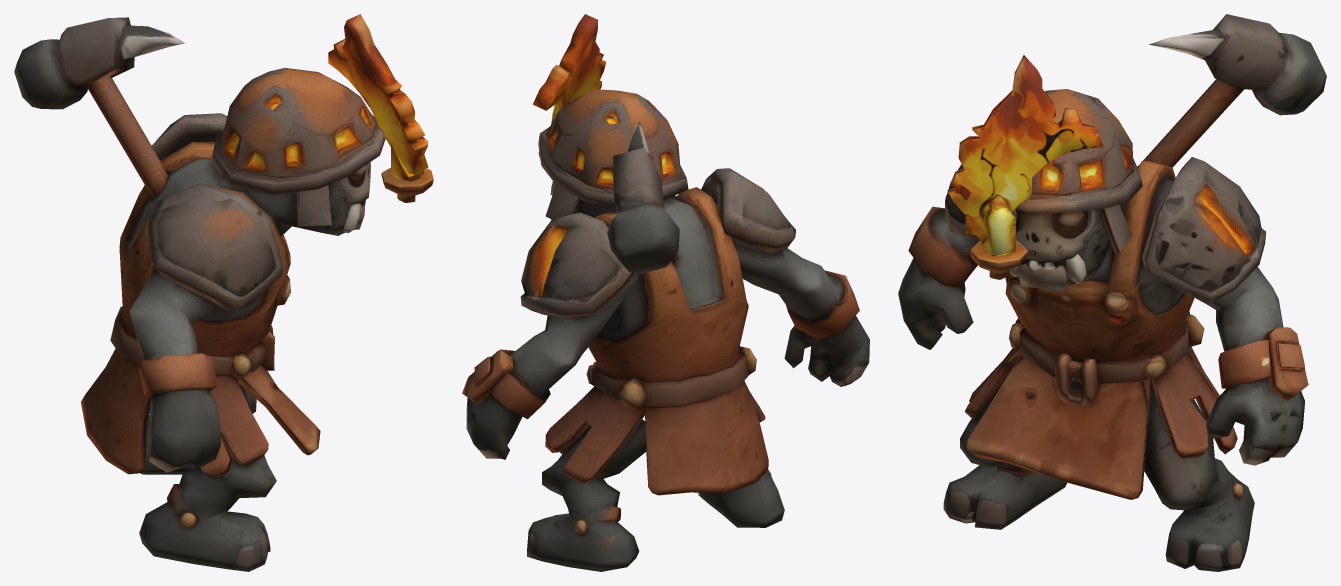
3 renders of one model, left to right at view 1: azimuth 30°, elevation 25°; view 2: azimuth 150°, elevation 25°; view 3: azimuth 270°, elevation 25°, orthographic. The views are drawn at different scales.
Visible parts, largest first — view 1: tripo_node_11606031-119f-4c79-b712-43086ac2ef13; view 2: tripo_node_11606031-119f-4c79-b712-43086ac2ef13; view 3: tripo_node_11606031-119f-4c79-b712-43086ac2ef13.
Part boxes in pixels (x1=…): tripo_node_11606031-119f-4c79-b712-43086ac2ef13: x1=14, y1=14, x2=433, y2=571; tripo_node_11606031-119f-4c79-b712-43086ac2ef13: x1=462, y1=14, x2=869, y2=571; tripo_node_11606031-119f-4c79-b712-43086ac2ef13: x1=898, y1=14, x2=1326, y2=571.
Size of the model in its own units: 0.666 by 0.998 by 0.7324.
1 material, 1 textured.
